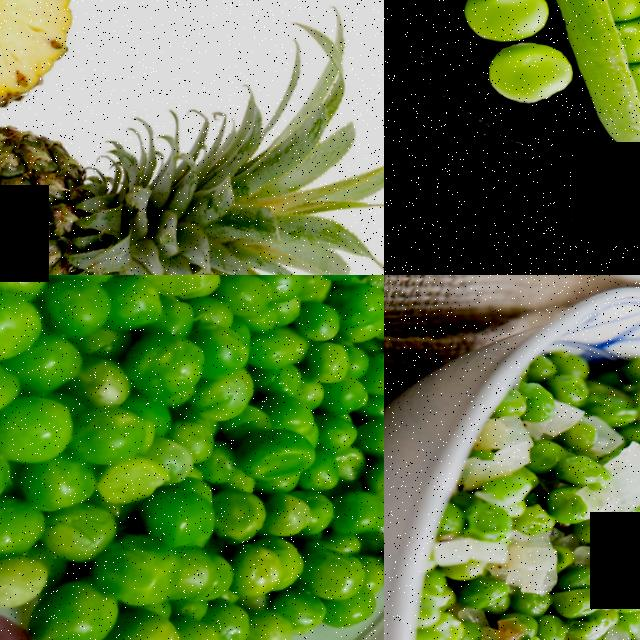peas: (0, 275, 384, 640), (384, 0, 626, 116), (465, 561, 640, 640), (526, 412, 616, 524), (407, 580, 489, 640)
pineapple: (0, 95, 196, 275)
